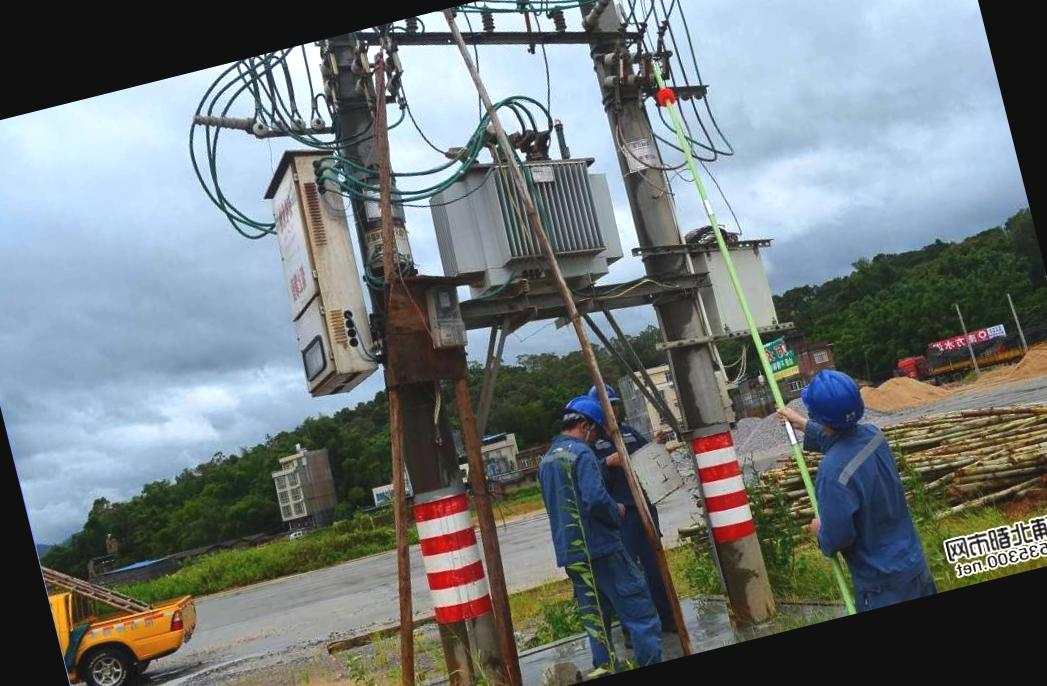helmet: (796, 364, 872, 432), (559, 386, 612, 424)
no_vest: (801, 416, 932, 604), (526, 432, 625, 593)
person: (514, 386, 679, 682), (768, 354, 938, 620)
